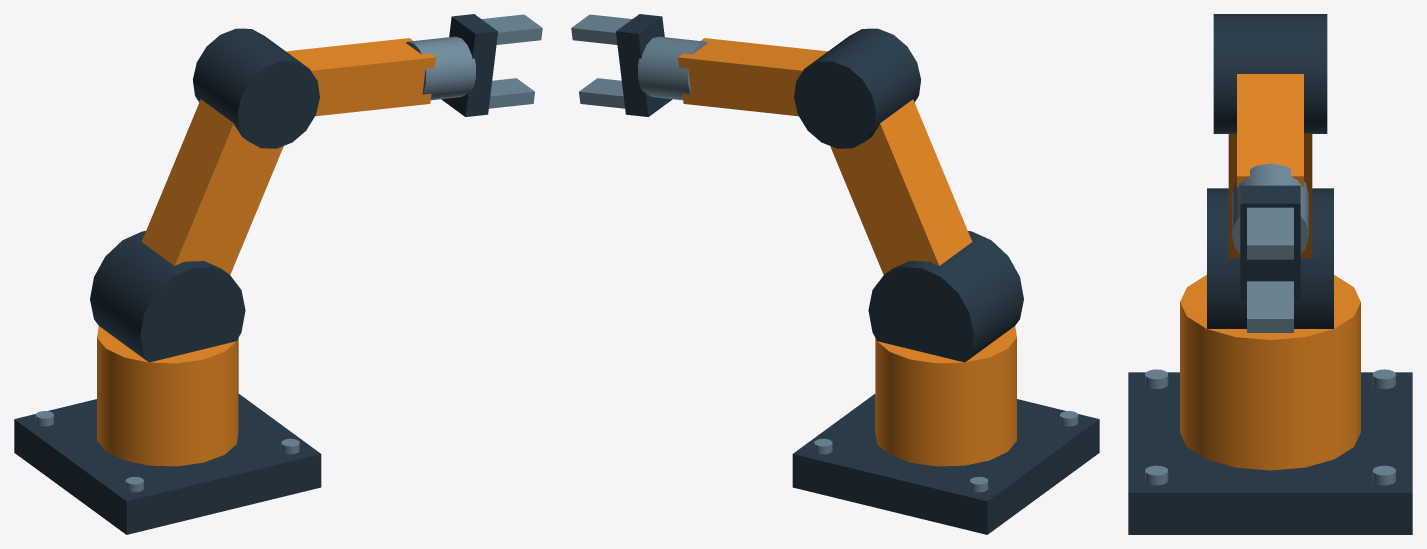
Rendered from robot-arm.09bb1f902c17.glb.
3 renders of one model, left to right at view 1: azimuth 30°, elevation 25°; view 2: azimuth 150°, elevation 25°; view 3: azimuth 270°, elevation 25°, orthographic. The views are drawn at different scales.
Parts seen in each view (by area): view 1: anchored_base_0001, pedestal_0006, upper_link_0008, shoulder_0007, elbow_joint_0009, fore_link_0010, gripper_mount_0012, wrist_0011, gripper_finger_0013, gripper_finger_0014; view 2: anchored_base_0001, pedestal_0006, upper_link_0008, shoulder_0007, elbow_joint_0009, fore_link_0010, gripper_mount_0012, wrist_0011, gripper_finger_0013, gripper_finger_0014; view 3: anchored_base_0001, pedestal_0006, elbow_joint_0009, shoulder_0007, fore_link_0010, gripper_mount_0012, gripper_finger_0013, gripper_finger_0014, wrist_0011, upper_link_0008, anchor_bolt_0004, anchor_bolt_0005 (+2 smaller).
Part boxes in pixels (x1,y1,x2,y2): anchored_base_0001: [14, 394, 321, 534]; pedestal_0006: [97, 326, 238, 466]; upper_link_0008: [141, 99, 283, 274]; shoulder_0007: [90, 231, 245, 362]; elbow_joint_0009: [193, 28, 319, 148]; fore_link_0010: [286, 38, 435, 116]; gripper_mount_0012: [441, 14, 497, 116]; wrist_0011: [406, 36, 475, 100]; gripper_finger_0013: [481, 14, 542, 44]; gripper_finger_0014: [489, 78, 534, 108]; anchored_base_0001: [792, 394, 1099, 534]; pedestal_0006: [875, 326, 1016, 466]; upper_link_0008: [830, 99, 972, 274]; shoulder_0007: [868, 231, 1023, 362]; elbow_joint_0009: [794, 28, 920, 148]; fore_link_0010: [678, 38, 827, 116]; gripper_mount_0012: [616, 14, 672, 116]; wrist_0011: [638, 36, 707, 100]; gripper_finger_0013: [571, 14, 632, 44]; gripper_finger_0014: [579, 78, 624, 108]; anchored_base_0001: [1128, 372, 1412, 534]; pedestal_0006: [1180, 275, 1360, 470]; elbow_joint_0009: [1213, 14, 1327, 133]; shoulder_0007: [1207, 188, 1333, 328]; fore_link_0010: [1237, 74, 1303, 187]; gripper_mount_0012: [1240, 185, 1300, 299]; gripper_finger_0013: [1247, 207, 1293, 259]; gripper_finger_0014: [1247, 281, 1293, 332]; wrist_0011: [1232, 163, 1308, 254]; upper_link_0008: [1228, 133, 1312, 258]; anchor_bolt_0004: [1372, 465, 1395, 485]; anchor_bolt_0005: [1145, 465, 1168, 485].
Size of the model in its own units: 2.02 by 1.68 by 0.85.
